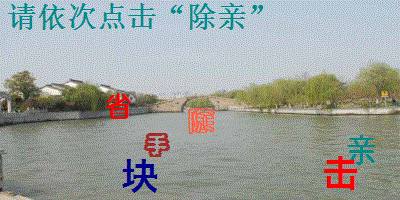result: (186, 2, 247, 32)
text: (322, 153, 361, 192), (120, 158, 160, 195), (347, 132, 377, 168), (185, 106, 219, 136), (105, 92, 134, 121), (142, 132, 171, 158)
